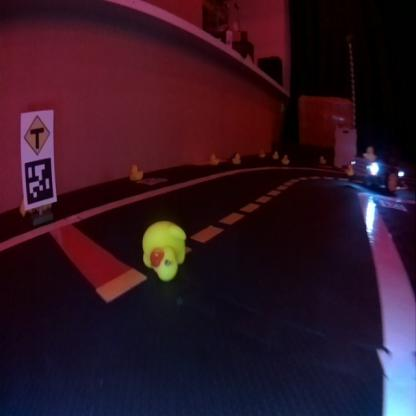Duckie: (141, 220, 185, 281), (130, 164, 142, 180), (363, 146, 376, 158), (208, 152, 218, 164)
Duckiebot: (352, 155, 396, 193)
Intersection sign: (22, 114, 50, 154)
QR code: (24, 157, 53, 202), (139, 175, 166, 184)
